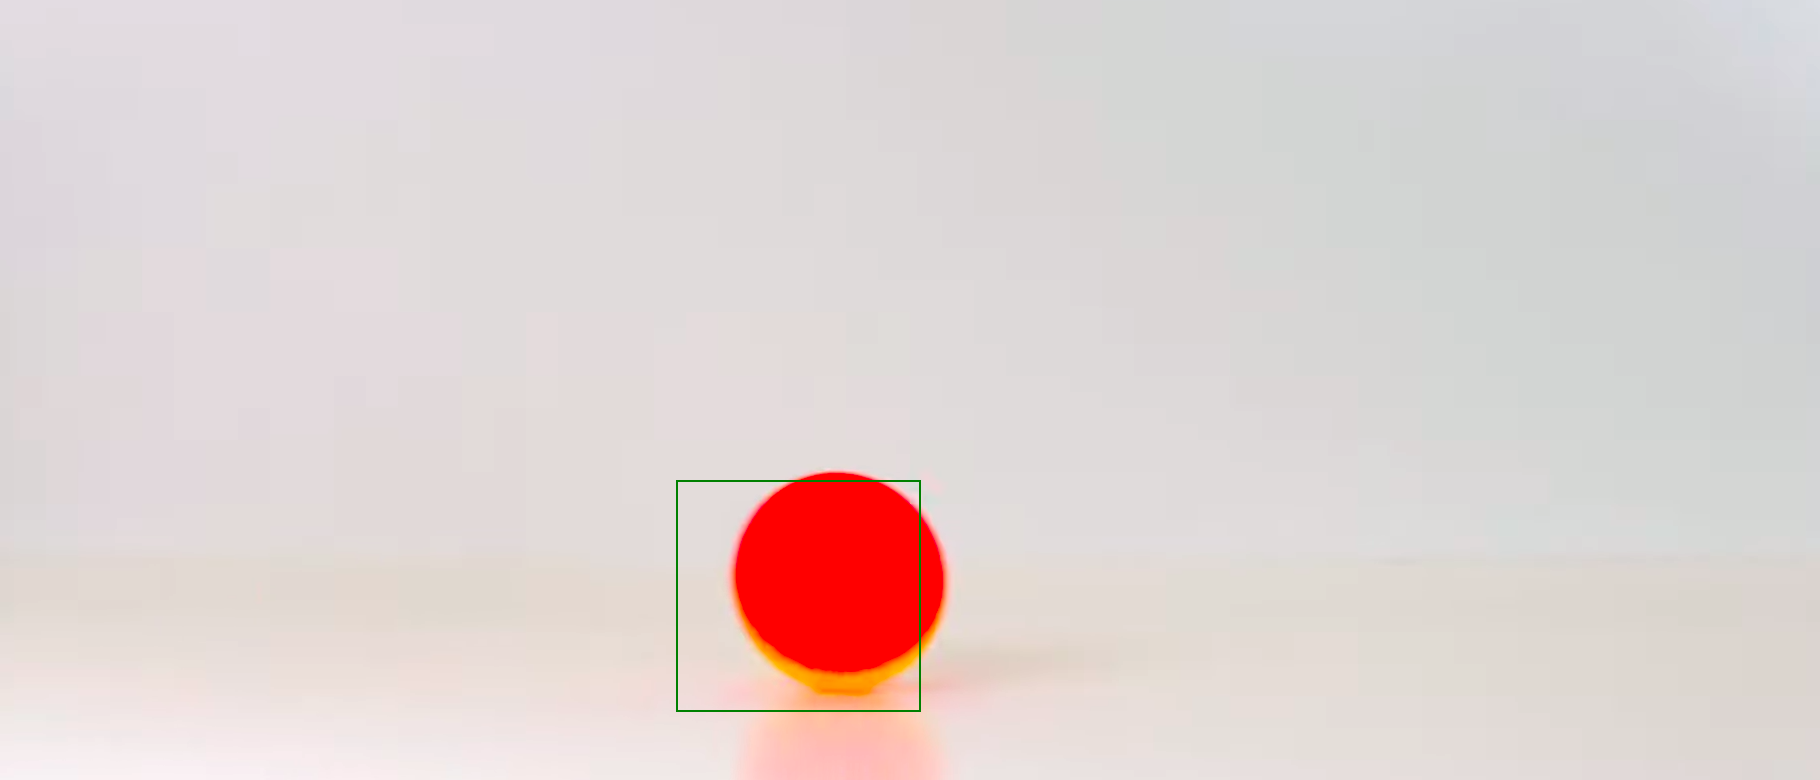Circle: (731, 470, 949, 693)
